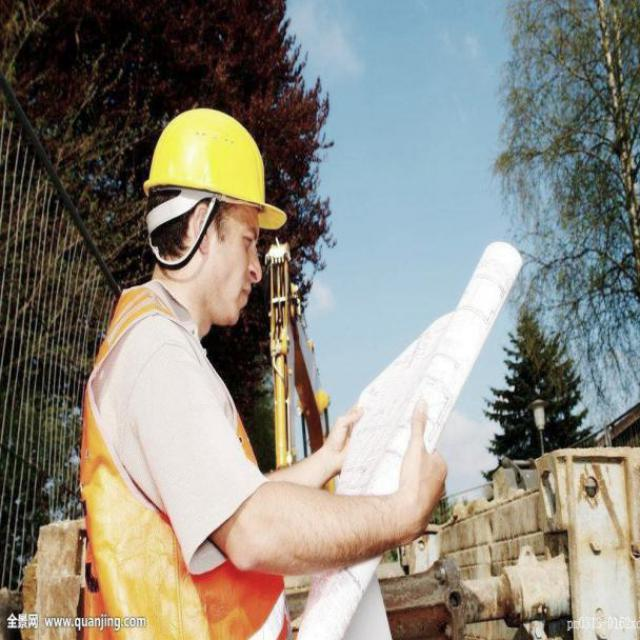helmet: (135, 92, 287, 340)
